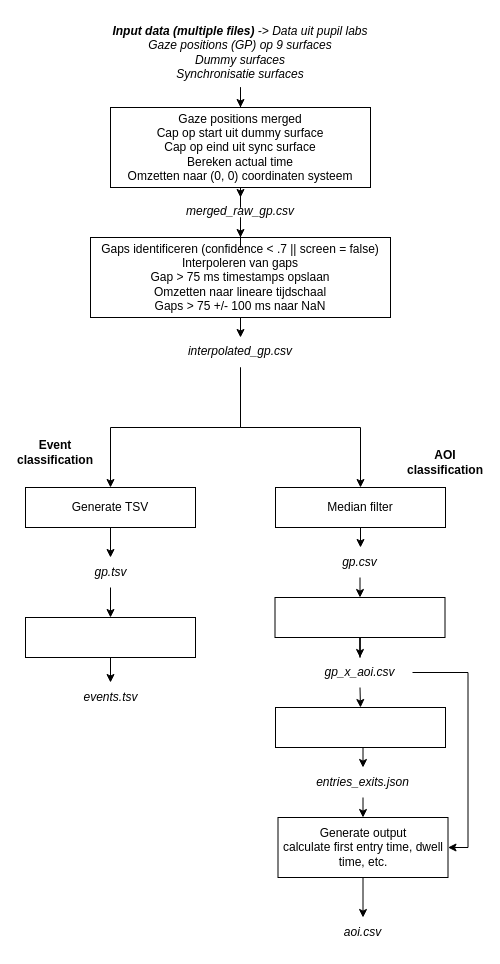
Some shapes in this 500 by 964 pixel diagram are drawn without their labels. Here are the shapes that lost their labels. From the top down, the centre of each, then its label:
At point (110, 637): "Remodnav".
At point (359, 617): "Identify AOI hits (GP within AOI)".
At point (360, 727): "Identify entries & exits".
